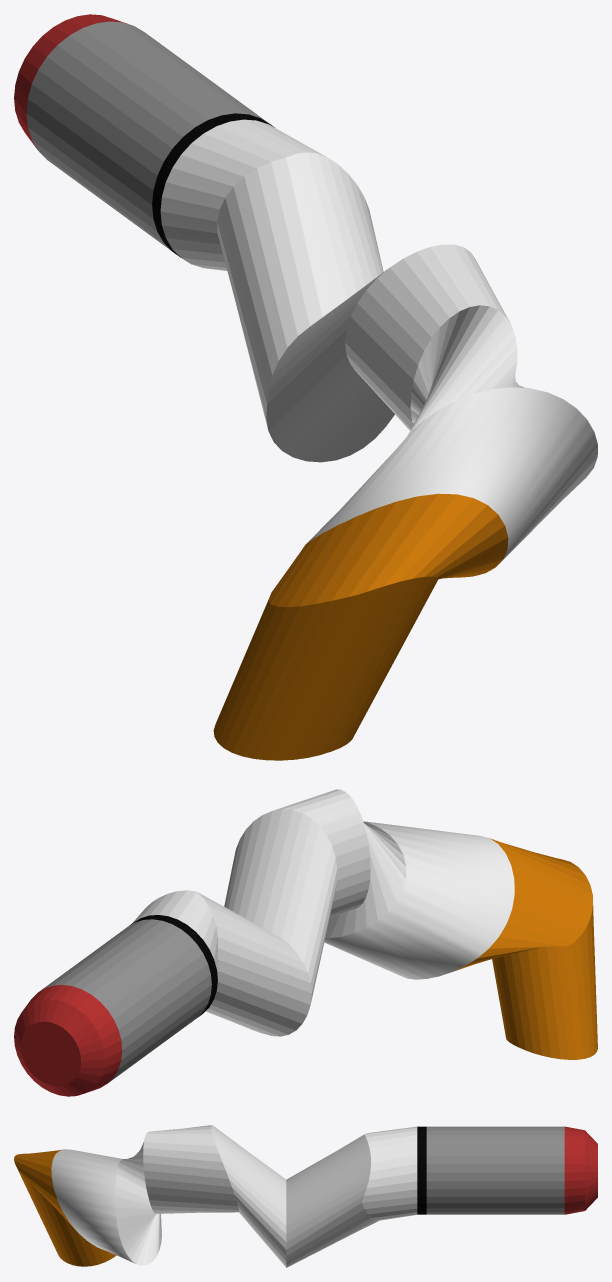
File: 曲がりタバコ5.fbx
3 renders of one model, top to bottom at view 1: azimuth 30°, elevation 25°; view 2: azimuth 150°, elevation 25°; view 3: azimuth 270°, elevation 25°, orthographic. The views are drawn at different scales.
Parts seen in each view (by area): view 1: 円柱; view 2: 円柱; view 3: 円柱.
Part boxes in pixels (left/top/right/bottom): 円柱: left=14, top=14, right=597, bottom=760; 円柱: left=14, top=789, right=597, bottom=1096; 円柱: left=14, top=1125, right=597, bottom=1267.
Size of the model in its own units: 40.65 by 33.52 by 93.08.
